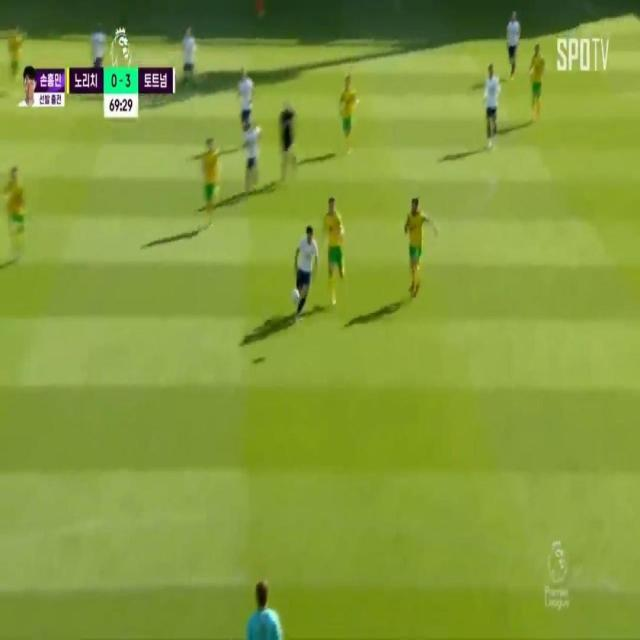ball: (289, 281, 303, 307)
goalkeeper: (242, 572, 292, 640)
player: (285, 213, 319, 326), (322, 194, 347, 299), (0, 163, 27, 247), (408, 188, 427, 295), (241, 116, 266, 196), (202, 129, 222, 216), (527, 43, 547, 116), (235, 67, 254, 142), (485, 60, 499, 150), (341, 72, 358, 142), (505, 7, 520, 81), (181, 22, 197, 91), (7, 24, 21, 81), (91, 24, 106, 72)
referee: (279, 93, 298, 170)
